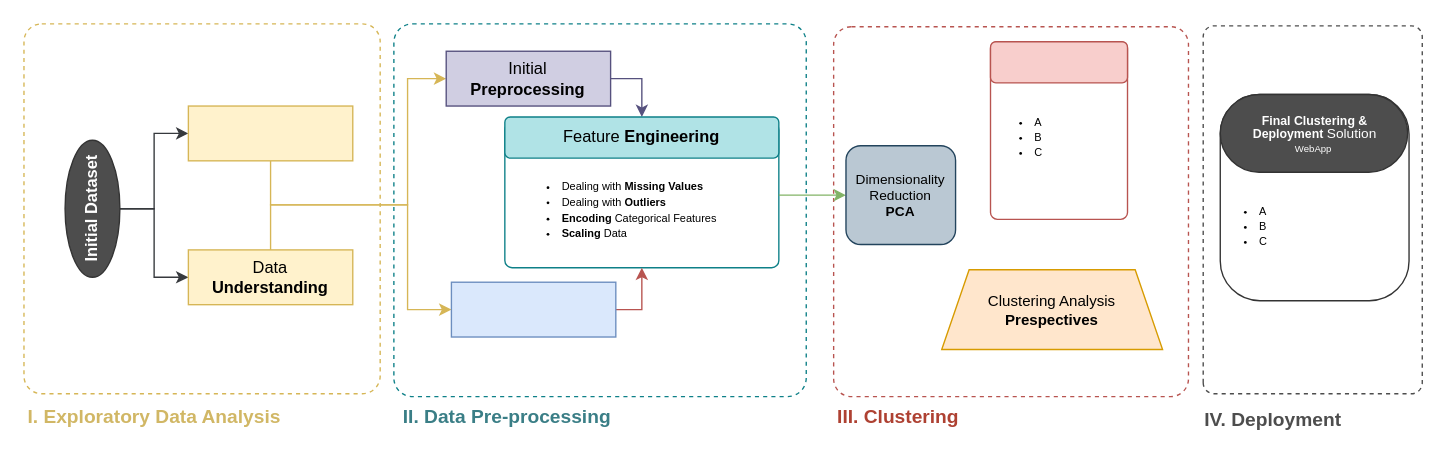
The diagram is 1447 pixels wide and 464 high, and some of its shapes have lost their labels. The shapes that lost their labels are listed below. From the top down, each one's centre as x and y in pixels, then its label:
At point 1058,61: "Clustering".
At point 270,133: "Data Visualization".
At point 533,309: "Feature Creation".
